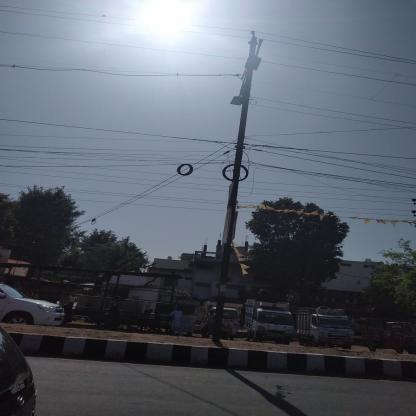Electrical Pole: (193, 28, 275, 340)
